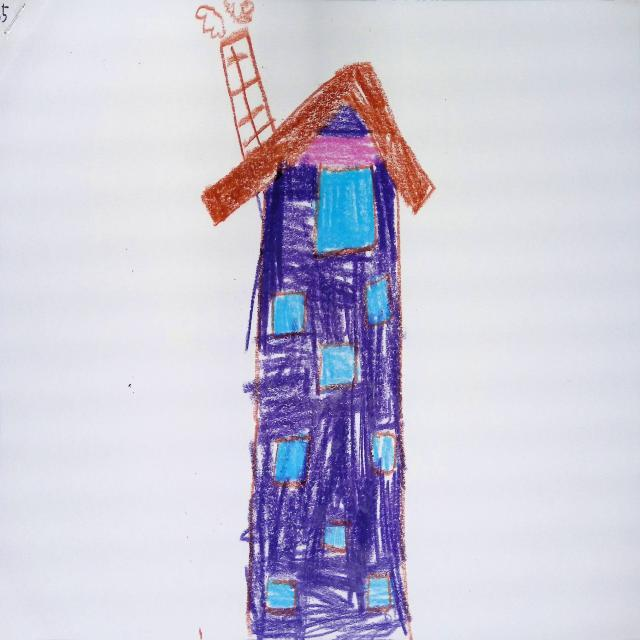chimney: (220, 28, 276, 158)
house: (203, 29, 434, 640)
roof: (202, 62, 435, 224)
window: (316, 167, 376, 254), (275, 439, 309, 484), (320, 346, 356, 388), (273, 293, 304, 336), (367, 276, 392, 325), (372, 431, 398, 476), (367, 574, 393, 612), (267, 580, 297, 610), (324, 527, 346, 552)
